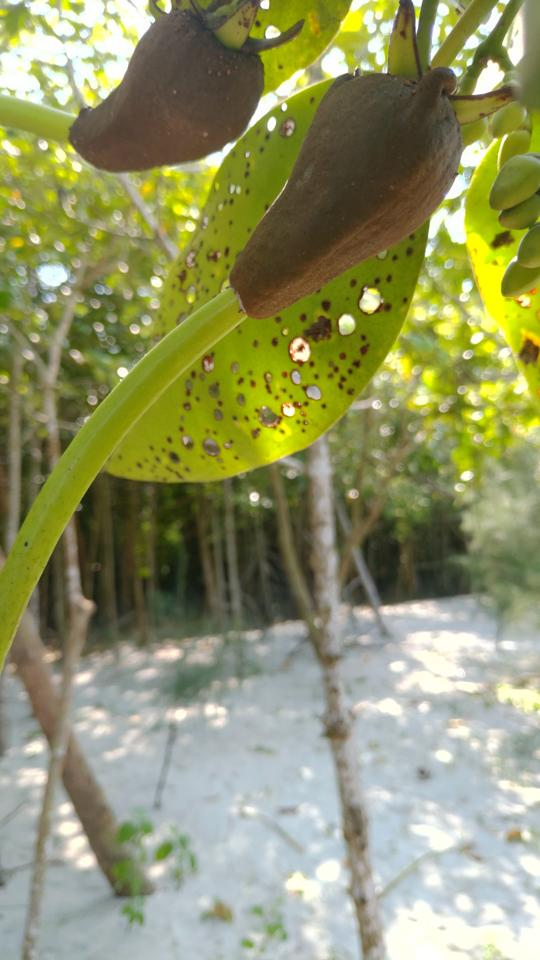mentah: (1, 44, 479, 695)
